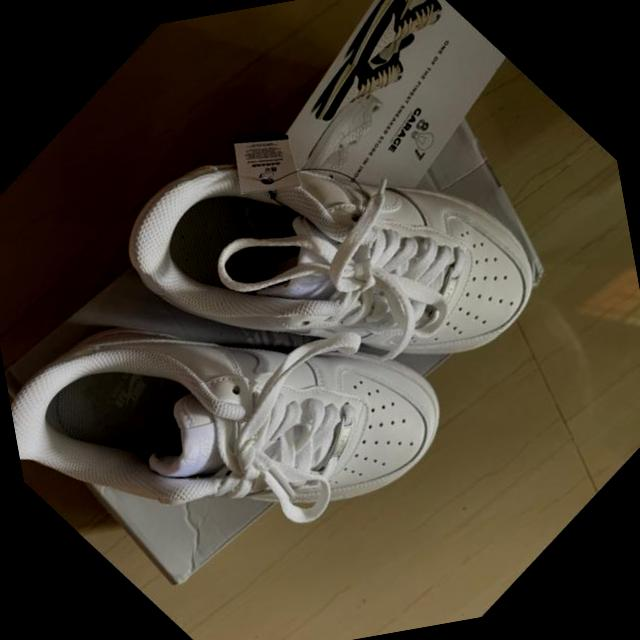nike_original_airforce: (65, 0, 622, 527), (0, 137, 501, 640)
